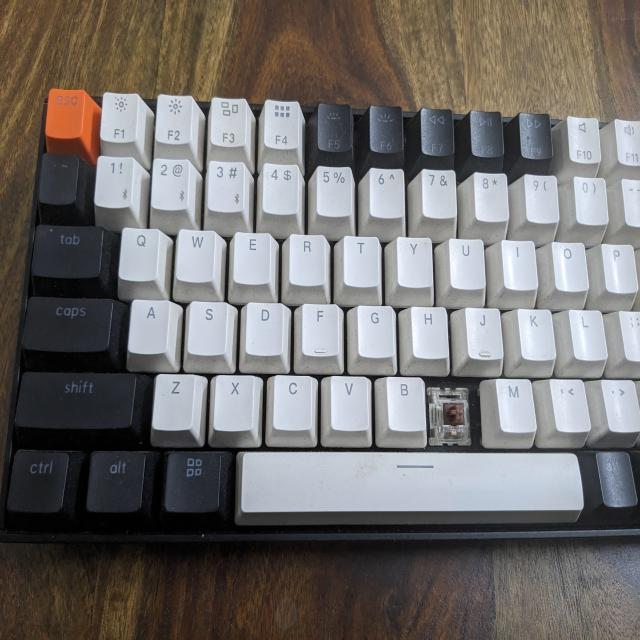C: (429, 385, 471, 448)
